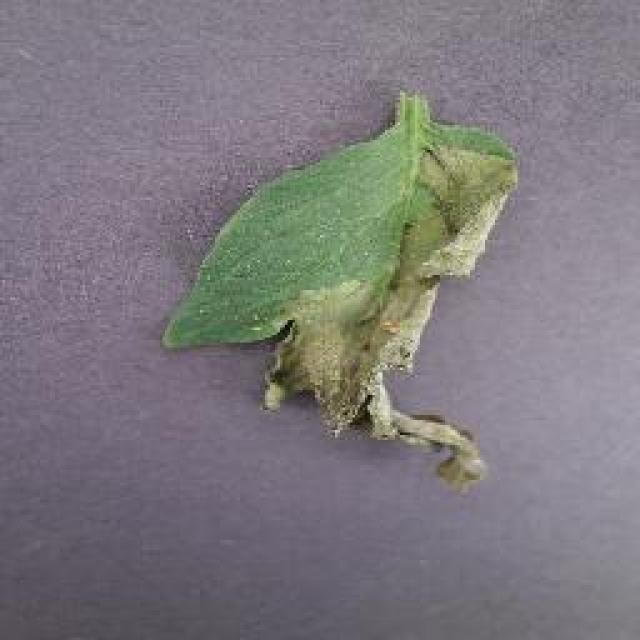Tomato Late Blight: (278, 93, 495, 537)
